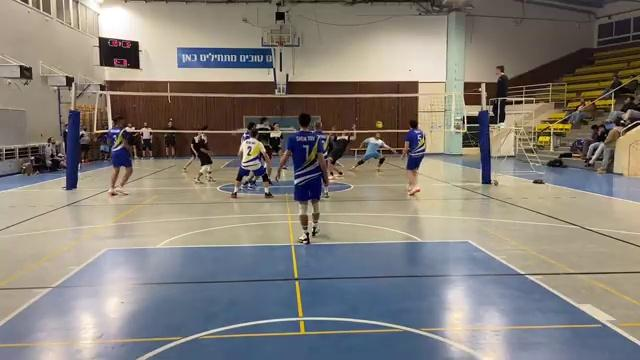ball: (376, 122, 384, 128)
